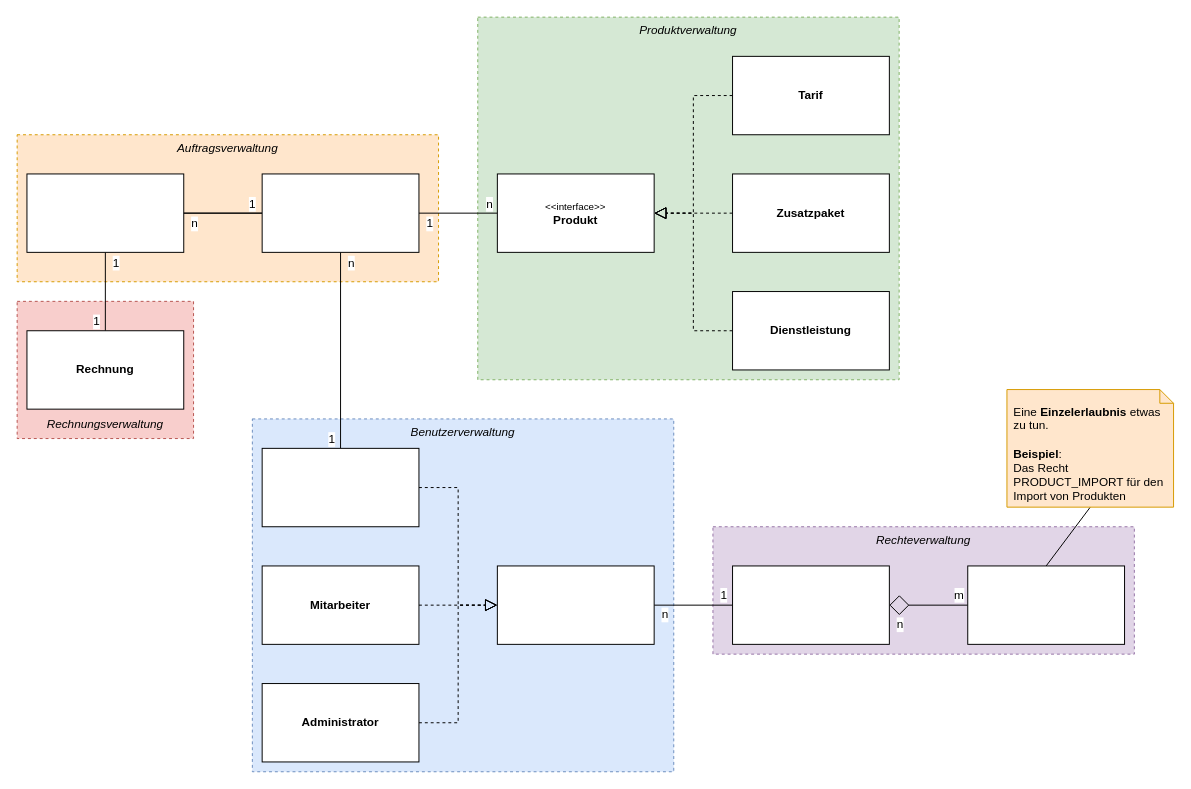
This 1191x789 diagram has some shape labels left out. The shapes that lost their labels are listed below. From the top down, each one's centre as x and y in pixels, then its label:
the point at 105,212: Auftrag
the point at 340,212: Vertrag
the point at 340,487: Kunde
the point at 575,604: <<interface>> Benutzer
the point at 810,604: Rolle
the point at 1046,604: Recht
